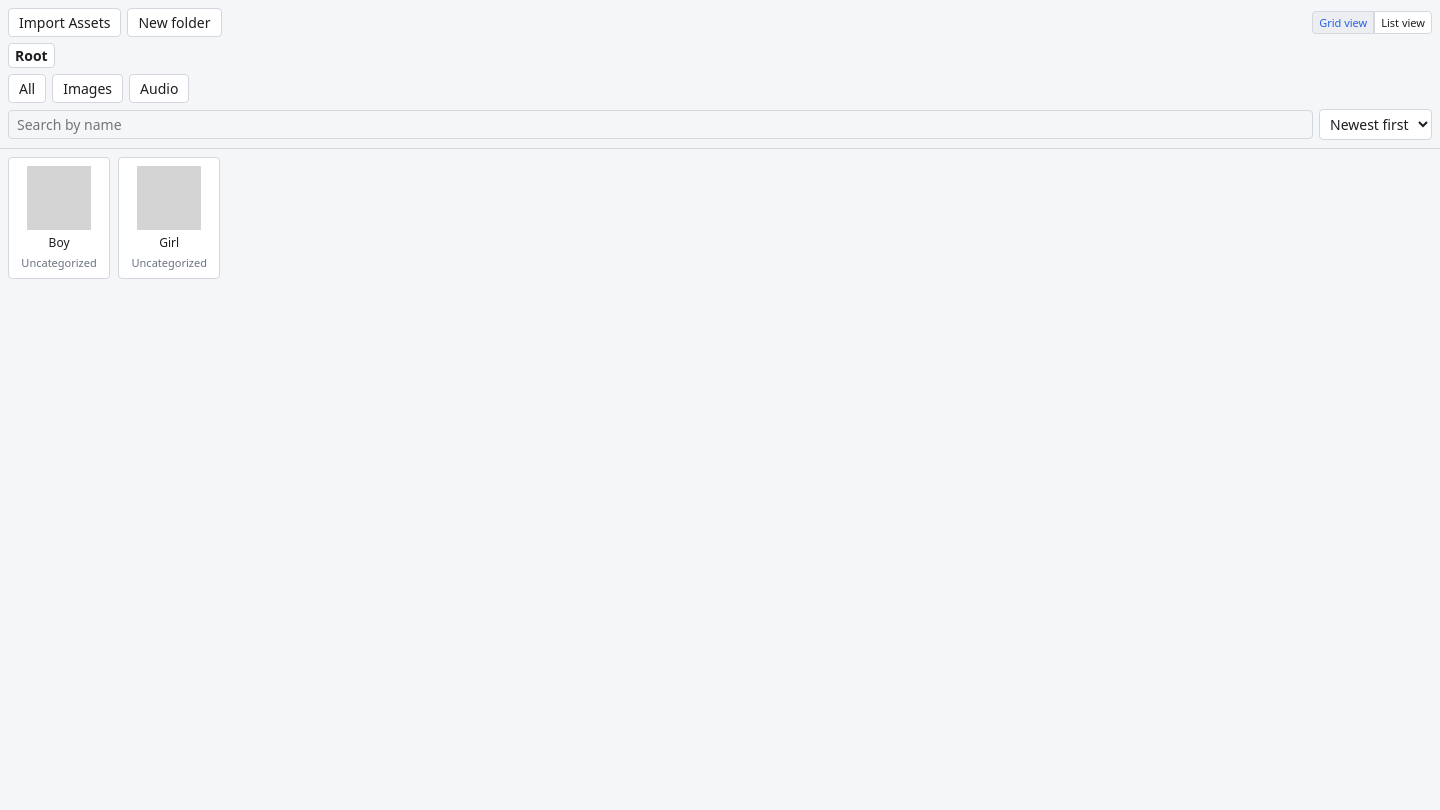
AssetsPanel › deletes an unreferenced asset from the preview and closes it
Expected: the text "Girl" is shown, [159,234,179,251]
Click the button with aria-label "Select Boy" at (59, 218), box [8,157,110,279]
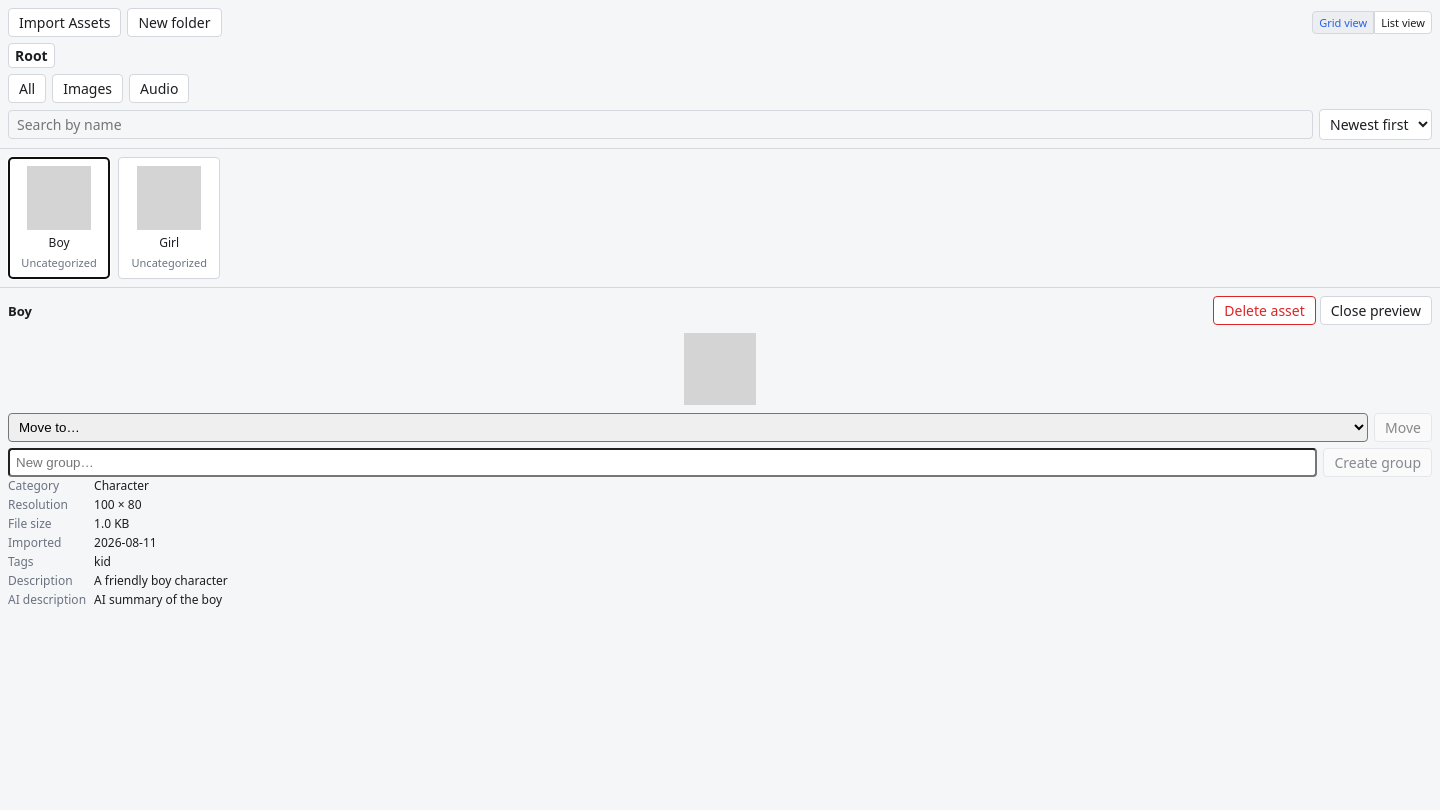
Click the button "Delete asset" at (1264, 310), box [1213,296,1316,325]
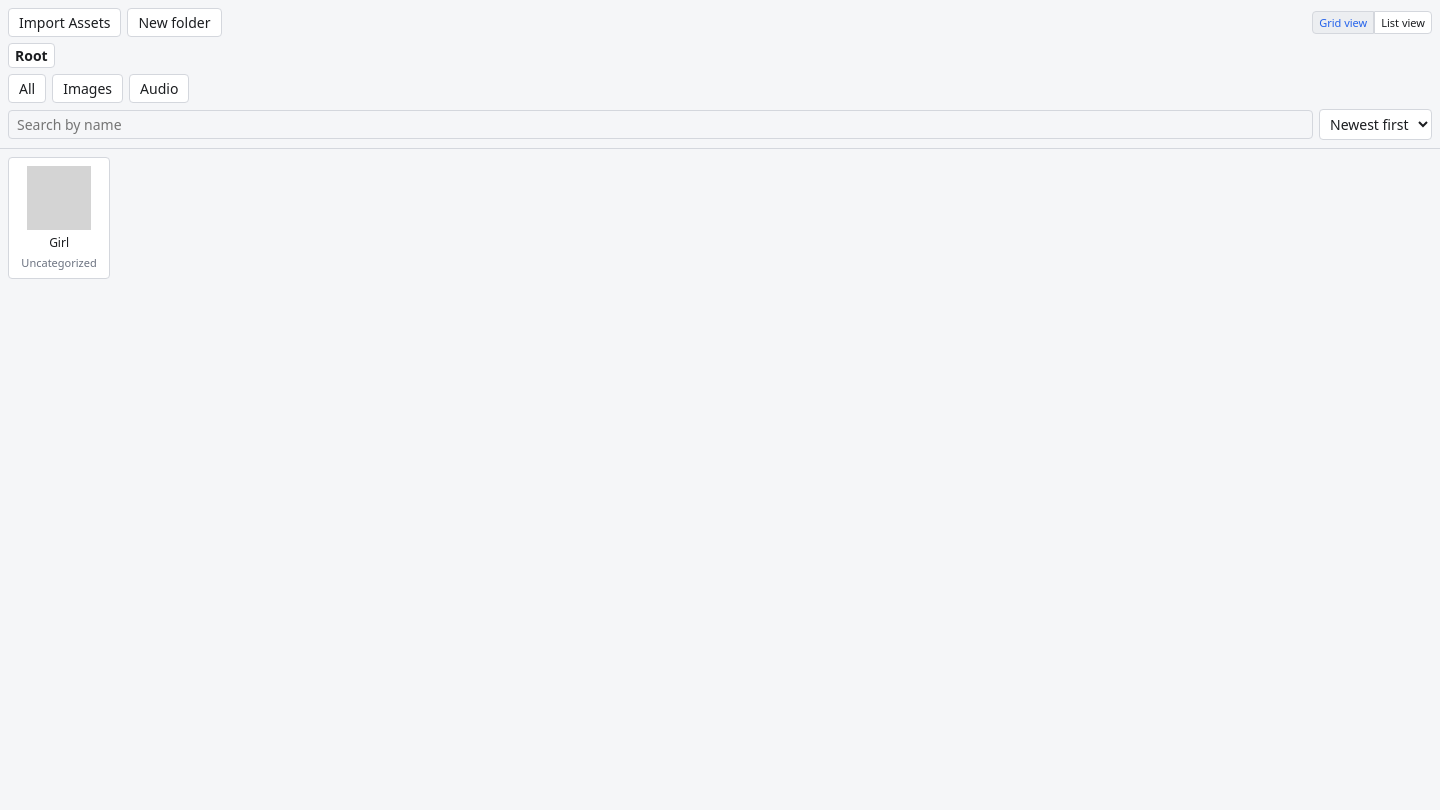
Expected: the text "Girl" is shown, [49,234,69,251]
Expected: the button "Boy" is gone
